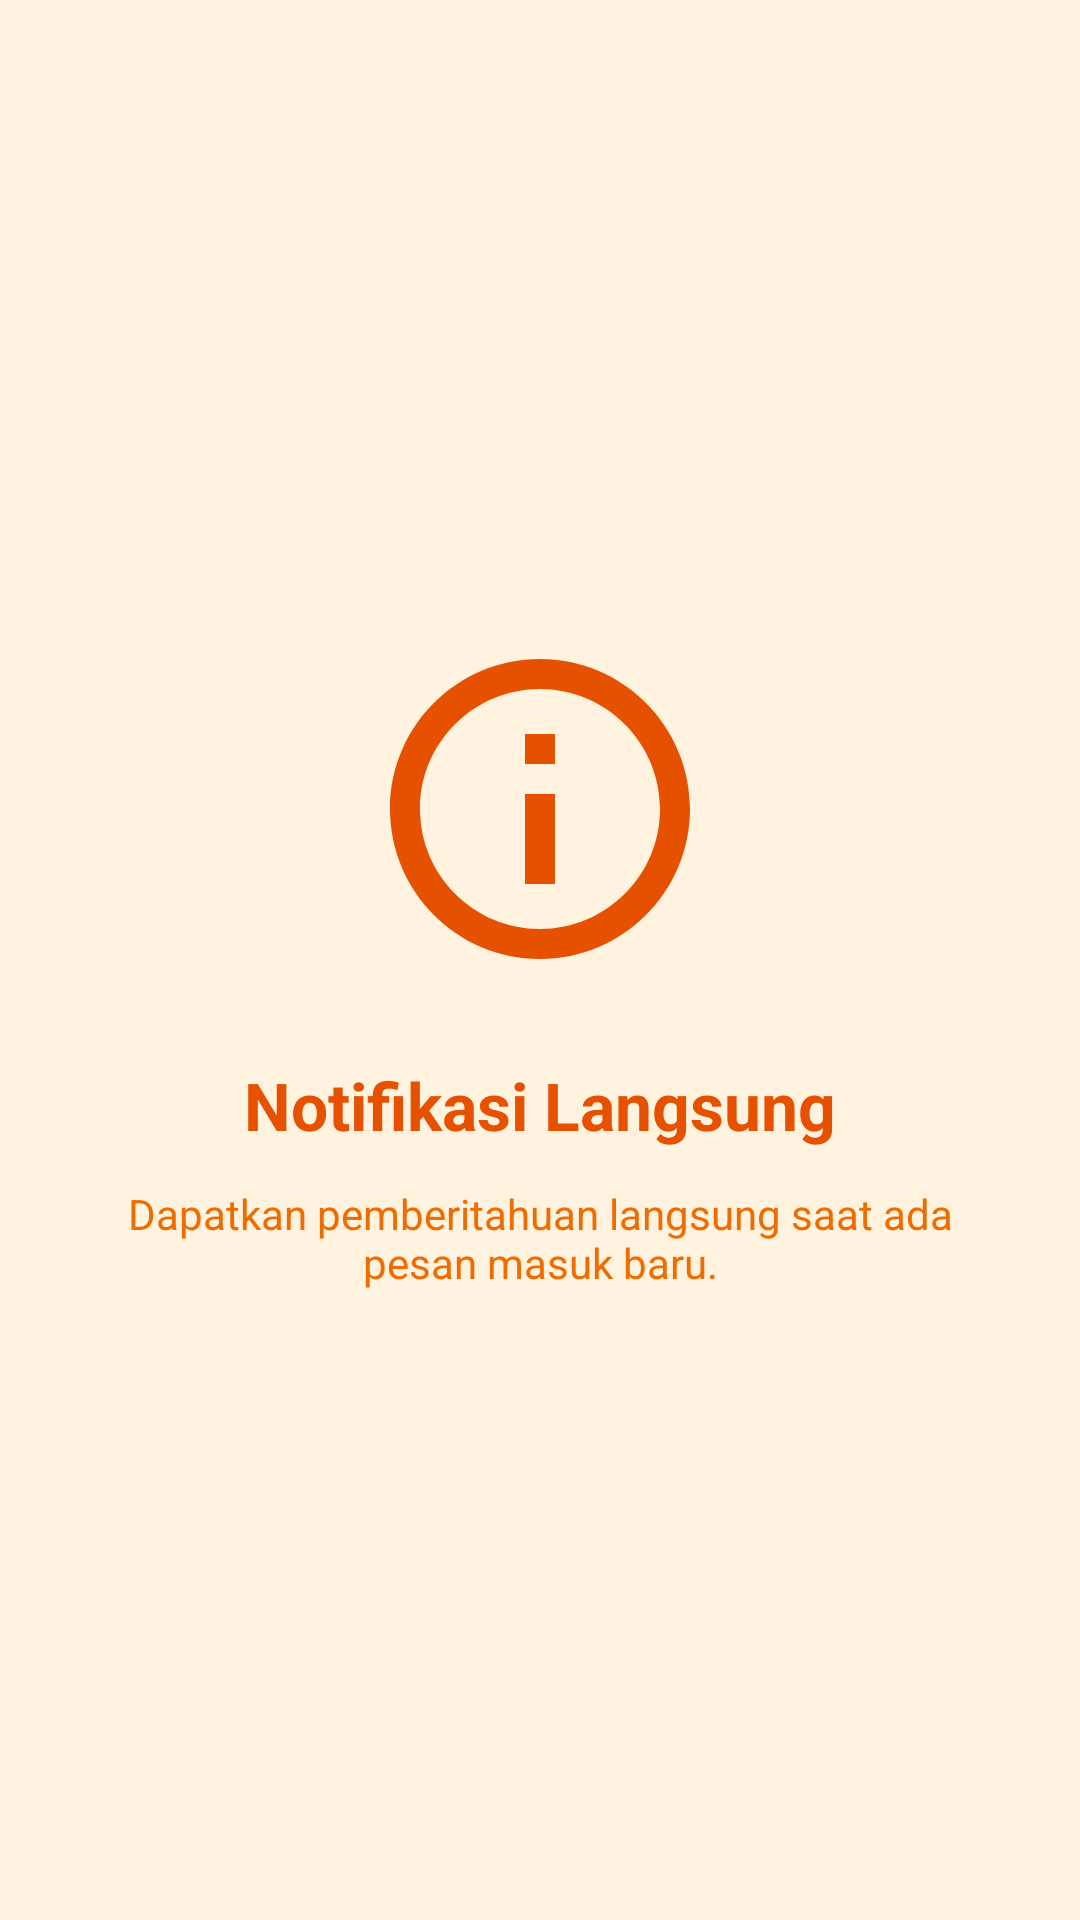

Where icons sit on this 1080×1920 app screen, as (x1, y1, x2, y2):
Tutorial Icon 2: (390, 659, 690, 959)
